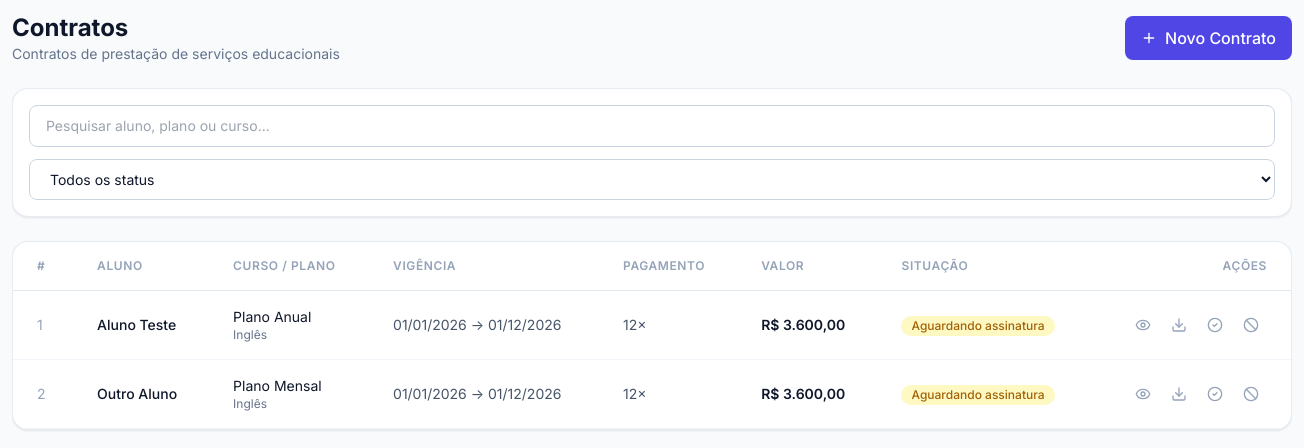
Contratos › filtra contratos pela busca de texto
Expected: the text "Aluno Teste" is shown, [73, 290, 209, 360]
Expected: the text "Outro Aluno" is shown, [73, 360, 209, 428]
In the field with placeholder "Pesquisar aluno, plano ou curso...": (652, 126) [29, 105, 1275, 147], type "Outro"
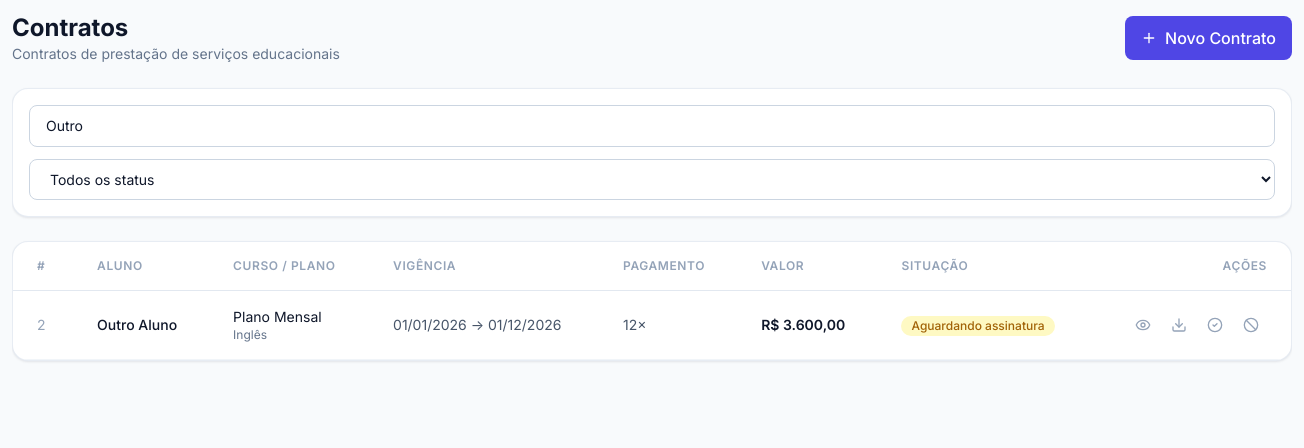
Expected: the text "Outro Aluno" is shown, [73, 290, 209, 360]
Now the text "Aluno Teste" is gone
